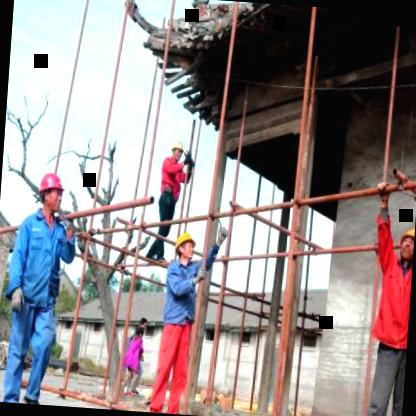helmet: (34, 166, 67, 216), (172, 232, 196, 266), (398, 224, 416, 268), (168, 137, 187, 164)
